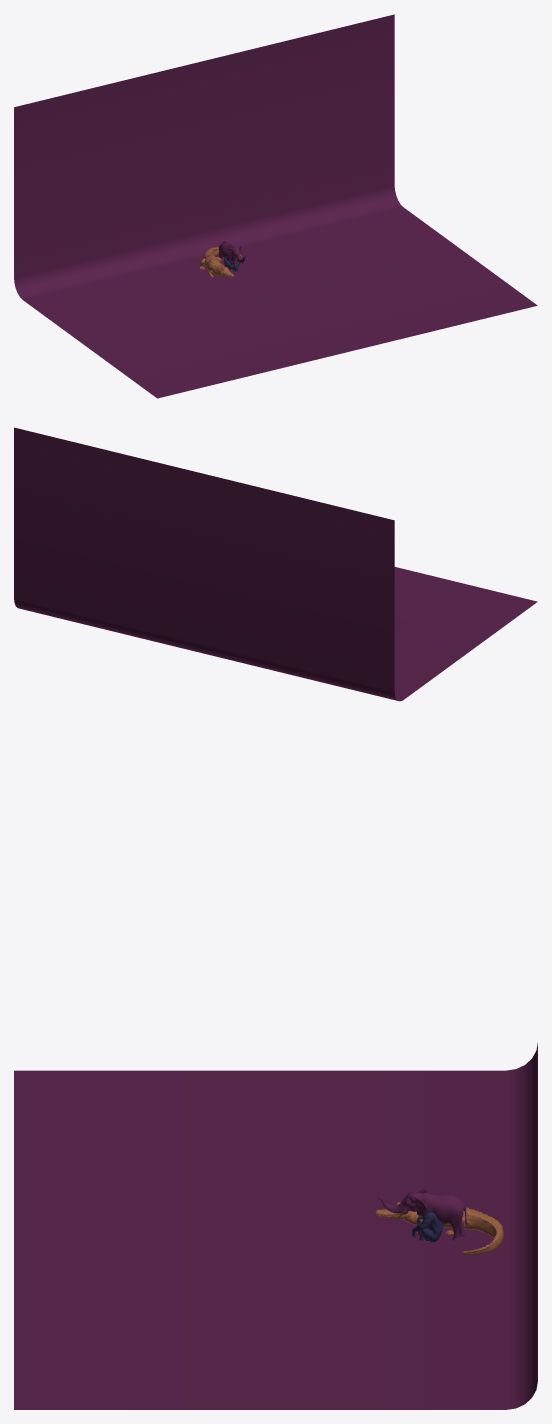
The model's file is elephantModelDemo.glb.
The picture shows the model from 3 angles, top to bottom: view 1: azimuth 30°, elevation 25°; view 2: azimuth 150°, elevation 25°; view 3: azimuth 270°, elevation 25°; orthographic projection. The views are drawn at different scales.
Parts seen in each view (by area): view 1: background.001, crocs; view 2: background.001; view 3: background.001, elephant-model, crocs.
Part boxes in pixels (x1,y1,x2,y2): background.001: [14, 14, 537, 398]; crocs: [199, 247, 241, 277]; background.001: [14, 427, 537, 701]; background.001: [14, 1043, 537, 1409]; elephant-model: [378, 1188, 466, 1240]; crocs: [375, 1202, 503, 1255].
Size of the model in its own units: 1182 by 556 by 771.
